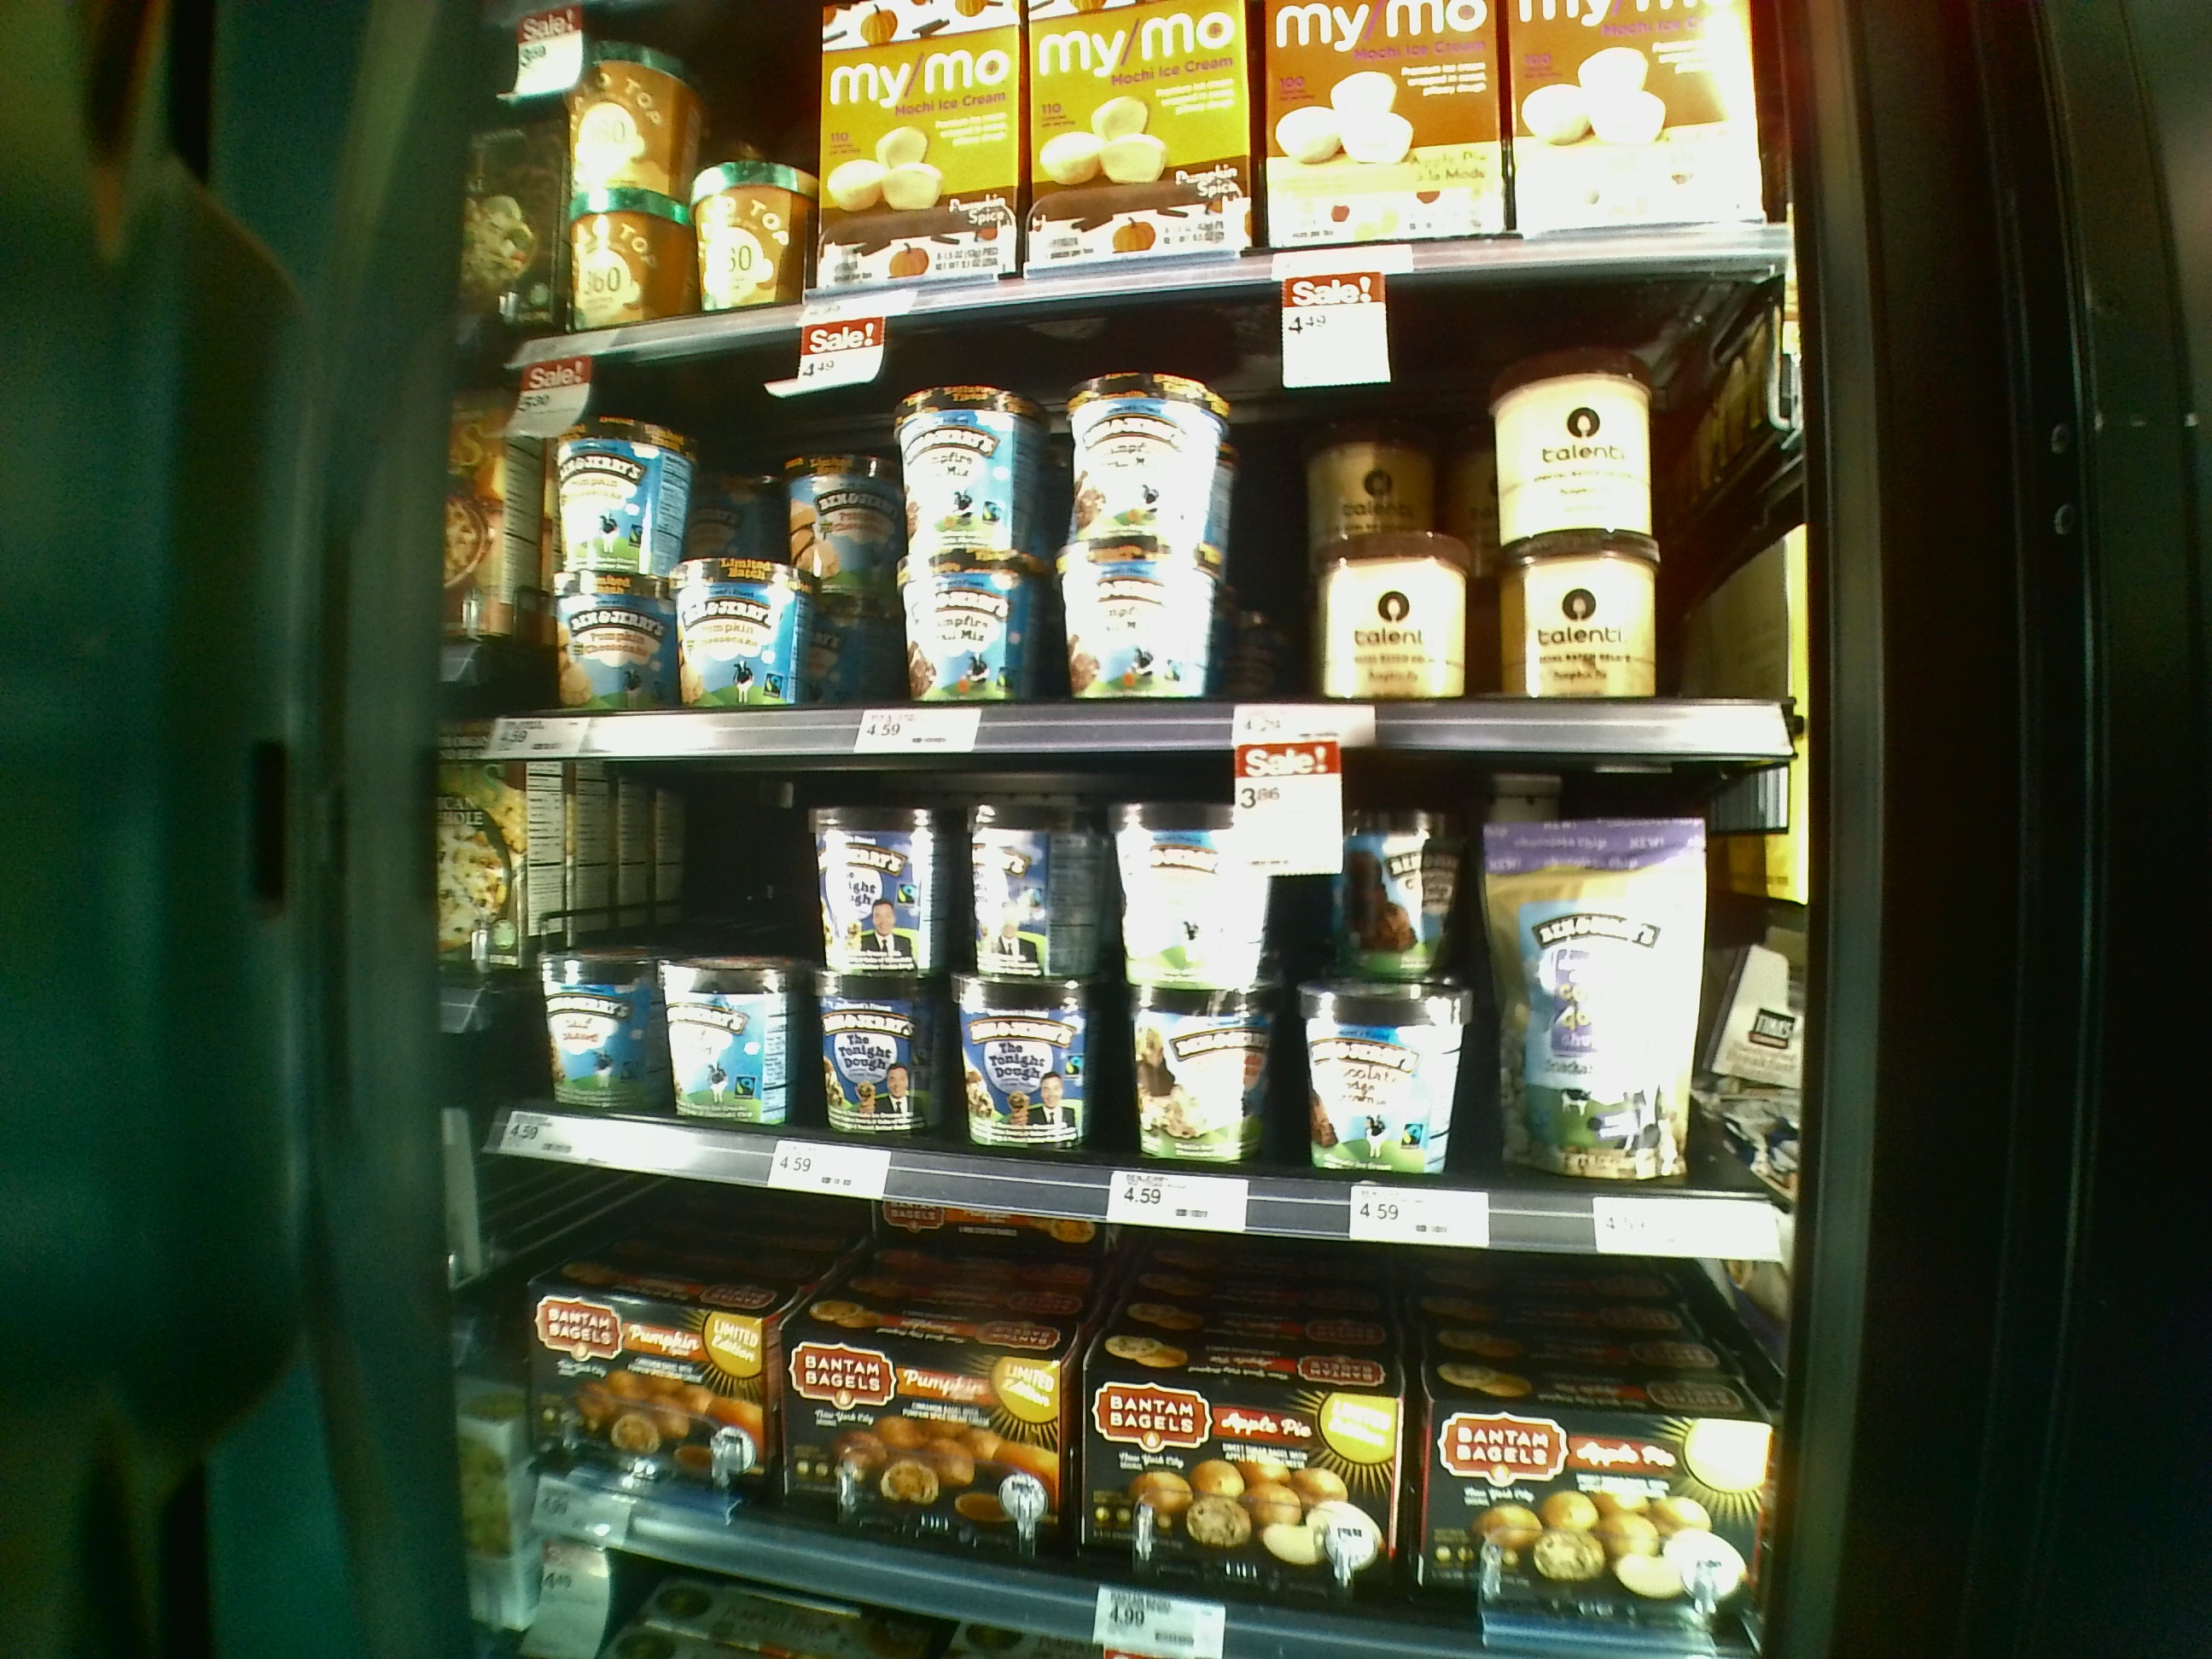shelf: (469, 727, 1797, 1256), (474, 338, 1787, 749)
